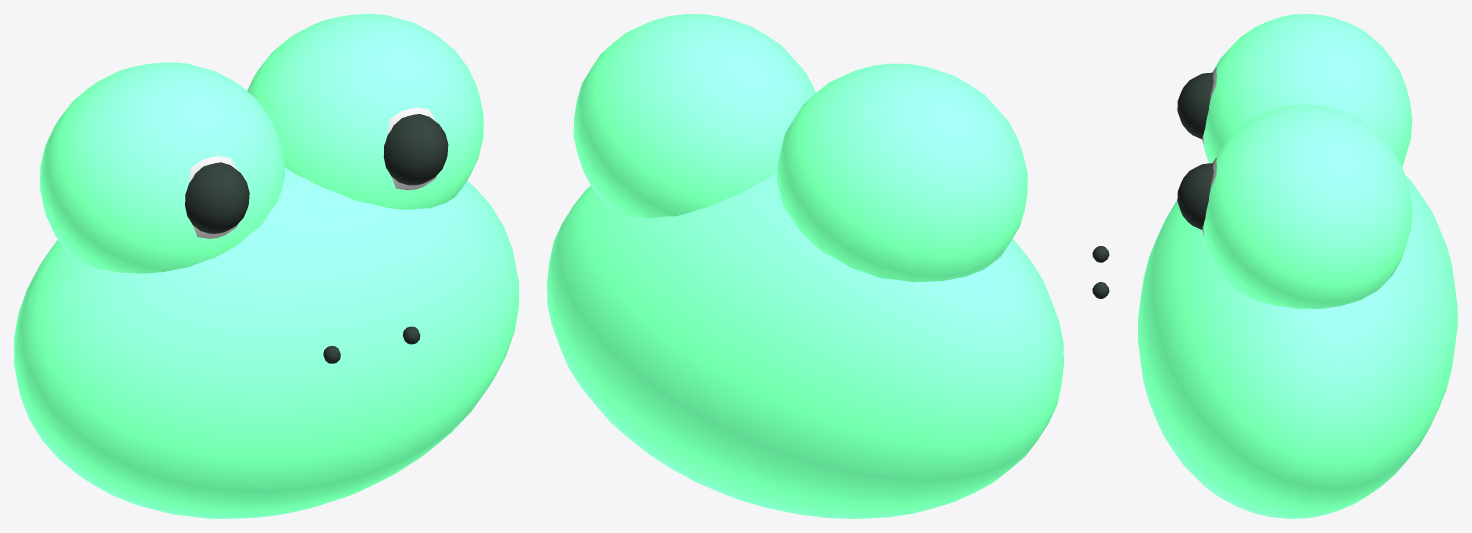
Rendered from life.glb.
3 renders of one model, left to right at view 1: azimuth 30°, elevation 25°; view 2: azimuth 150°, elevation 25°; view 3: azimuth 270°, elevation 25°, orthographic. The views are drawn at different scales.
Parts seen in each view (by area): view 1: FrogHead; view 2: FrogHead; view 3: FrogHead.
Boxes of the visible parts, left/top/right/bottom form: FrogHead: left=14, top=14, right=518, bottom=518; FrogHead: left=547, top=14, right=1063, bottom=518; FrogHead: left=1092, top=14, right=1457, bottom=518.
Size of the model in its own units: 0.48 by 0.4274 by 0.3406.
